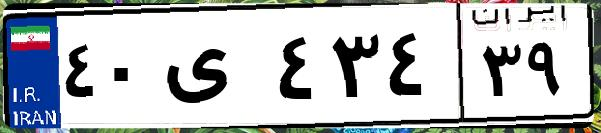0: (110, 28, 158, 98)
3: (330, 28, 385, 110), (475, 38, 525, 113)
4: (270, 28, 330, 110), (385, 28, 445, 110), (57, 26, 110, 100)
9: (525, 38, 570, 115)
ی: (158, 20, 270, 120)
